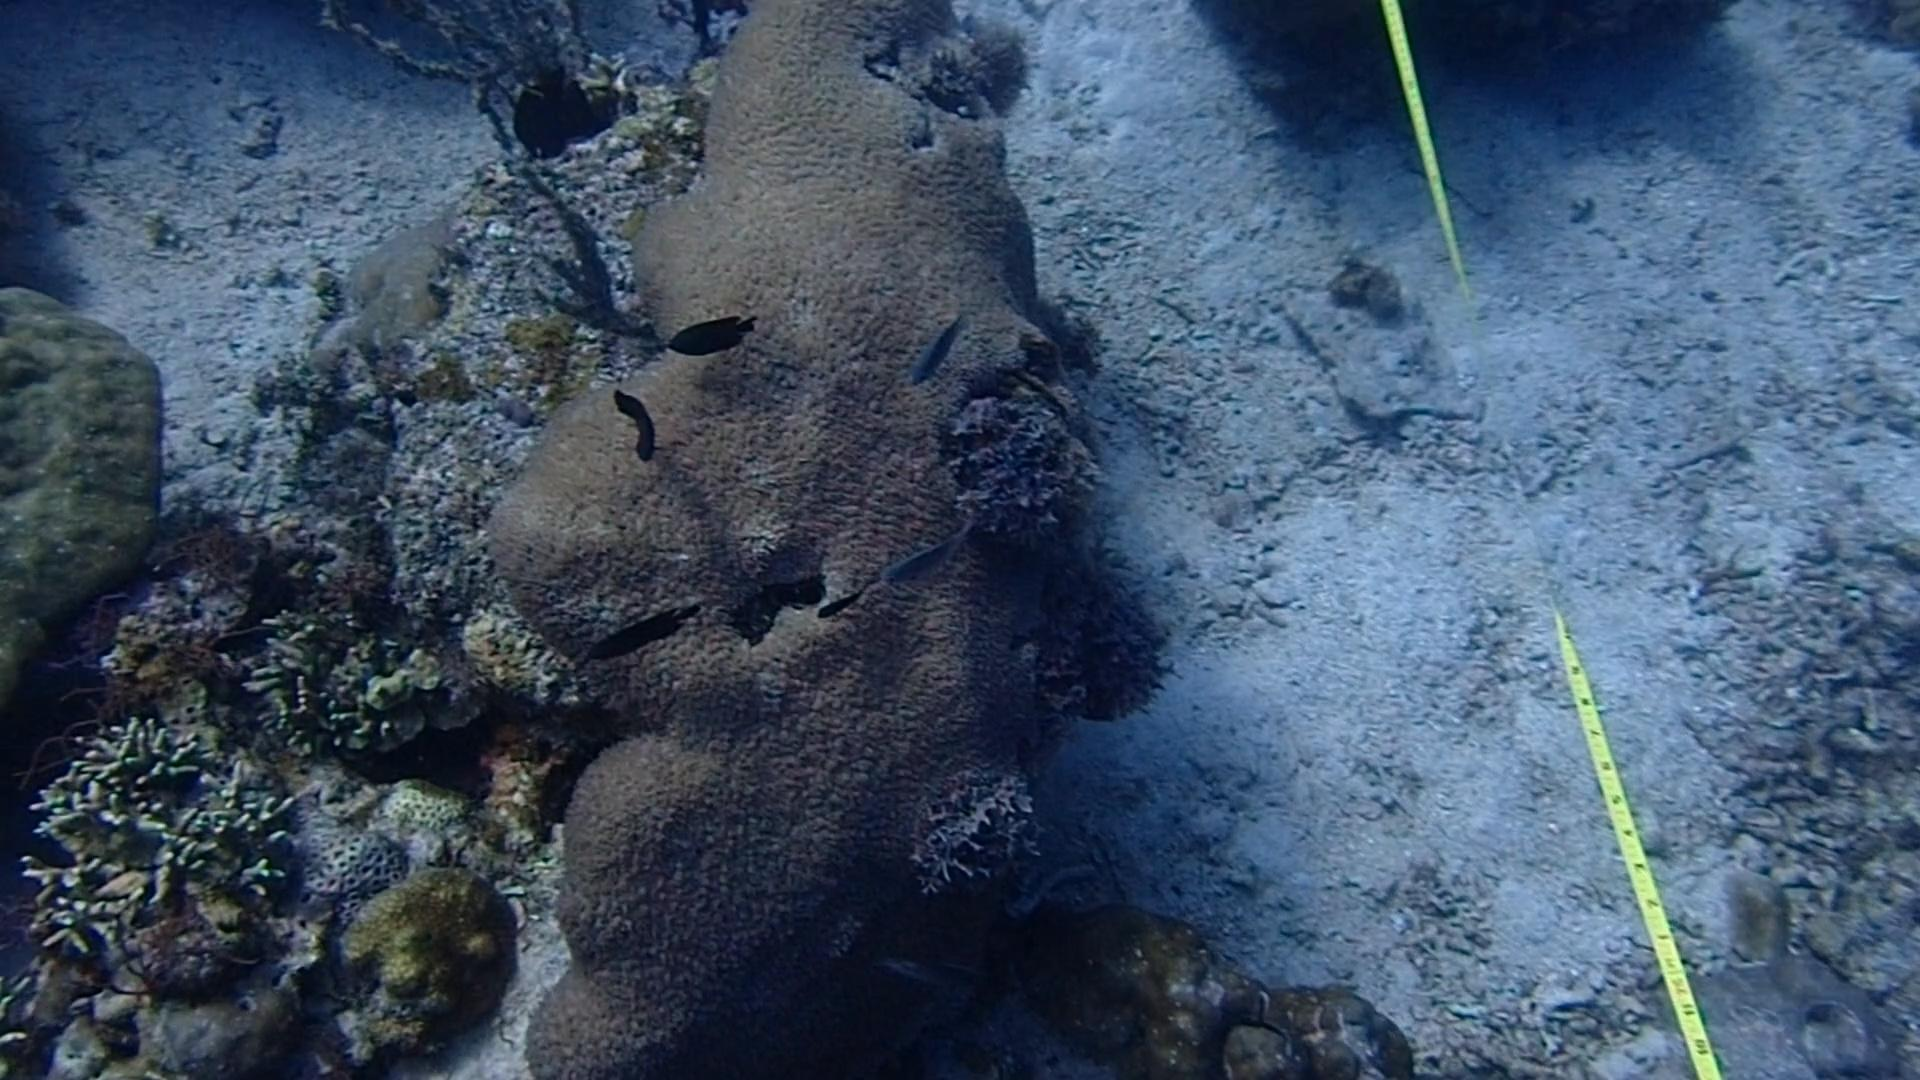Dark Fish: (585, 591, 695, 663), (589, 380, 680, 462), (657, 307, 762, 361), (808, 575, 869, 629)
Light Fish: (887, 303, 982, 390), (878, 936, 992, 1009), (870, 514, 968, 592)
